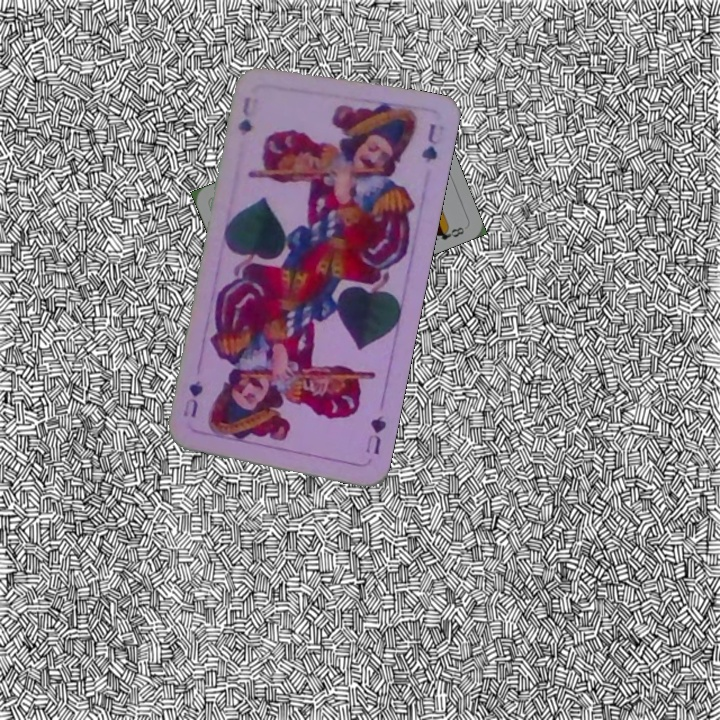GU: (361, 411, 389, 457), (233, 93, 255, 138)
